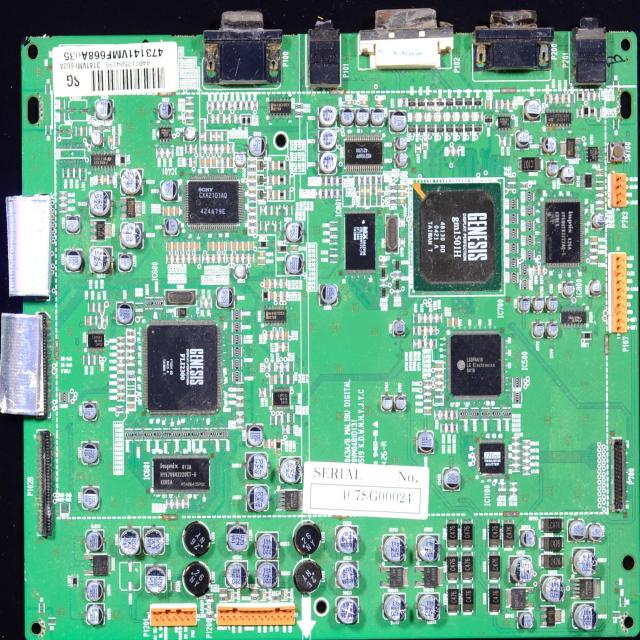Capacitor Jumper: (540, 553, 564, 569), (538, 518, 564, 532), (539, 536, 564, 550), (503, 520, 515, 548), (462, 552, 474, 580), (462, 584, 474, 612), (489, 584, 501, 612), (518, 158, 542, 171), (447, 519, 458, 547), (488, 520, 499, 548), (489, 552, 500, 579), (447, 553, 458, 580), (462, 519, 472, 547), (448, 585, 458, 613), (174, 308, 189, 317), (67, 108, 88, 112), (58, 129, 74, 134), (269, 291, 274, 302), (264, 279, 270, 288), (423, 140, 428, 150), (220, 588, 227, 595), (264, 439, 269, 448), (346, 100, 353, 106), (117, 359, 125, 364), (424, 409, 432, 414), (76, 128, 81, 136), (398, 185, 406, 190), (274, 190, 278, 200), (377, 196, 381, 206), (208, 242, 213, 250), (290, 246, 298, 251), (252, 588, 258, 594), (219, 115, 223, 124), (82, 127, 86, 136), (206, 132, 210, 141), (223, 132, 227, 141), (416, 144, 420, 153), (212, 158, 216, 167), (274, 161, 278, 170), (366, 186, 370, 195), (372, 186, 376, 195), (164, 207, 168, 216), (400, 218, 404, 227), (184, 242, 188, 251), (167, 242, 171, 251), (284, 331, 288, 340), (435, 363, 442, 368), (186, 105, 193, 110), (249, 229, 256, 234), (590, 237, 597, 242), (258, 252, 265, 257), (270, 376, 274, 384), (127, 404, 135, 408), (270, 440, 274, 448), (274, 176, 278, 184), (596, 183, 604, 187), (366, 197, 370, 205), (175, 207, 179, 215), (400, 238, 404, 246), (220, 242, 224, 250), (232, 242, 236, 250), (244, 242, 248, 250), (214, 242, 218, 250), (178, 242, 182, 250), (173, 243, 177, 251), (86, 317, 90, 325), (448, 318, 452, 326), (454, 318, 458, 326), (361, 100, 367, 105), (187, 119, 193, 124), (376, 101, 383, 105), (360, 188, 364, 195), (398, 192, 405, 196), (398, 199, 405, 203), (249, 242, 253, 249), (238, 242, 242, 249), (258, 259, 265, 263), (597, 108, 600, 117), (231, 114, 234, 123), (487, 100, 490, 108), (208, 115, 211, 123), (201, 120, 204, 128), (201, 158, 204, 166), (229, 158, 232, 166), (207, 158, 210, 166), (104, 176, 107, 184), (361, 197, 364, 205), (190, 242, 193, 250), (227, 242, 230, 250), (110, 137, 113, 144), (170, 207, 173, 214), (196, 243, 199, 250), (70, 169, 72, 178), (378, 187, 380, 193)
Connector: (203, 2, 284, 86), (357, 7, 455, 66), (479, 8, 547, 72), (571, 14, 606, 88), (308, 14, 342, 87), (217, 603, 294, 625), (608, 253, 627, 334), (150, 604, 197, 626), (608, 171, 627, 208)
IC: (408, 178, 506, 296), (143, 319, 222, 416), (448, 329, 504, 400), (183, 174, 245, 232), (542, 198, 584, 268), (344, 210, 376, 273), (342, 131, 386, 172), (476, 440, 509, 477), (570, 576, 601, 600), (380, 566, 409, 588), (415, 566, 443, 588), (506, 586, 534, 608), (546, 108, 572, 130), (90, 150, 116, 172), (561, 306, 586, 328), (269, 97, 292, 118), (559, 138, 581, 159), (91, 220, 112, 242), (264, 305, 286, 326), (541, 606, 562, 627), (120, 198, 142, 218), (87, 330, 105, 350), (273, 388, 290, 409), (583, 147, 602, 163), (159, 124, 172, 144), (499, 112, 510, 134), (581, 173, 594, 189)
Resistor Jumper: (275, 279, 281, 288), (126, 380, 136, 385), (127, 389, 135, 395), (512, 438, 520, 444), (251, 595, 259, 601), (272, 596, 280, 602), (613, 612, 621, 618), (206, 613, 214, 619), (248, 166, 256, 172), (330, 230, 338, 236), (276, 416, 281, 425), (452, 424, 457, 433), (430, 112, 435, 121), (268, 162, 273, 171), (63, 169, 68, 178), (326, 177, 331, 186), (206, 594, 213, 600), (249, 222, 256, 228), (84, 355, 88, 365), (289, 362, 293, 372), (283, 362, 287, 372), (265, 362, 269, 372), (126, 366, 134, 371), (127, 373, 135, 378), (424, 388, 432, 393), (424, 395, 432, 400), (127, 397, 135, 402), (424, 402, 432, 407), (236, 414, 244, 419), (290, 413, 294, 423), (236, 422, 244, 427), (290, 425, 294, 435), (512, 445, 520, 450), (512, 459, 520, 464), (439, 113, 444, 121), (225, 114, 229, 124), (186, 144, 190, 154), (206, 144, 210, 154), (157, 148, 161, 158), (508, 177, 516, 182), (248, 182, 256, 187), (520, 183, 528, 188), (248, 196, 256, 201), (330, 223, 338, 228), (330, 238, 338, 243), (590, 244, 598, 249), (590, 251, 598, 256), (208, 253, 212, 263), (167, 254, 171, 264), (238, 254, 242, 264), (220, 254, 224, 264), (178, 254, 182, 264), (282, 280, 287, 288), (276, 292, 281, 300), (94, 303, 98, 313), (100, 304, 105, 312), (126, 331, 134, 336), (426, 338, 430, 348), (126, 345, 134, 350), (96, 356, 100, 365), (276, 375, 280, 384), (289, 375, 293, 384), (260, 388, 264, 397), (266, 388, 270, 397), (442, 410, 446, 419), (283, 413, 287, 422), (272, 416, 276, 425), (595, 92, 599, 101), (584, 92, 588, 101), (564, 94, 568, 103), (558, 94, 562, 103), (546, 95, 550, 104), (402, 98, 406, 107), (498, 100, 502, 109), (503, 100, 507, 109), (509, 100, 513, 109), (230, 101, 234, 110), (236, 101, 240, 110), (225, 101, 229, 110), (421, 112, 425, 121), (614, 120, 618, 129), (500, 137, 504, 146), (506, 137, 510, 146), (228, 144, 232, 153), (223, 144, 227, 153), (212, 144, 216, 153), (200, 145, 204, 154), (448, 147, 452, 156), (168, 149, 172, 158), (109, 175, 113, 184), (377, 177, 381, 186), (338, 177, 342, 186), (322, 177, 326, 186), (333, 177, 337, 186), (322, 189, 326, 198), (286, 191, 290, 200), (267, 206, 271, 215), (288, 206, 292, 215), (261, 206, 265, 215), (261, 221, 265, 230), (184, 255, 188, 264), (534, 266, 538, 275), (438, 314, 442, 323), (420, 314, 424, 323), (102, 316, 106, 325), (97, 316, 101, 325), (426, 326, 430, 335), (414, 326, 418, 335), (278, 331, 282, 340), (267, 331, 271, 340), (414, 339, 418, 348), (432, 339, 436, 348), (236, 383, 243, 388), (236, 391, 243, 396), (523, 441, 530, 446), (523, 448, 530, 453), (512, 452, 519, 457), (523, 455, 530, 460), (513, 466, 520, 471), (523, 469, 530, 474), (499, 484, 506, 489), (510, 490, 517, 495), (220, 596, 227, 601), (186, 98, 193, 103), (295, 111, 302, 116), (187, 112, 194, 117), (596, 170, 603, 175), (596, 189, 603, 194), (596, 196, 603, 201), (60, 199, 67, 204), (596, 203, 603, 208), (249, 215, 256, 220), (330, 257, 337, 262), (394, 272, 401, 277), (380, 280, 387, 285), (136, 304, 143, 309), (117, 338, 124, 343), (90, 356, 94, 364), (126, 359, 134, 363), (270, 363, 274, 371), (117, 374, 125, 378), (283, 376, 287, 384), (236, 399, 244, 403), (236, 407, 244, 411), (447, 411, 451, 419), (435, 411, 439, 419), (447, 424, 451, 432), (284, 426, 288, 434), (621, 598, 625, 606), (590, 92, 594, 100), (552, 95, 556, 103), (570, 95, 574, 103), (492, 100, 496, 108), (242, 101, 246, 109), (253, 102, 257, 110), (478, 112, 482, 120), (459, 113, 463, 121), (115, 136, 119, 144), (218, 145, 222, 153), (192, 158, 196, 166), (248, 160, 256, 164), (286, 162, 290, 170), (75, 169, 79, 177), (248, 175, 256, 179), (508, 184, 516, 188), (248, 190, 256, 194), (338, 189, 342, 197), (328, 190, 332, 198), (333, 190, 337, 198), (389, 192, 397, 196), (59, 193, 67, 197), (269, 191, 273, 199), (330, 250, 338, 254), (196, 255, 200, 263), (203, 255, 207, 263), (270, 280, 274, 288), (394, 292, 402, 296), (282, 292, 286, 300), (207, 299, 211, 307), (89, 303, 93, 311), (432, 314, 436, 322), (414, 314, 418, 322), (272, 331, 276, 339), (284, 343, 288, 351), (117, 346, 125, 350), (118, 352, 124, 357), (277, 362, 280, 372), (118, 366, 124, 371), (118, 388, 124, 393), (436, 391, 442, 396), (118, 395, 124, 400), (436, 398, 442, 403), (524, 462, 530, 467), (296, 104, 302, 109), (273, 206, 276, 216), (250, 253, 253, 263), (591, 258, 597, 263), (279, 342, 282, 352), (127, 352, 134, 356), (435, 370, 442, 374), (424, 382, 431, 386), (510, 484, 517, 488), (499, 491, 506, 495), (389, 186, 396, 190), (249, 208, 256, 212), (380, 261, 387, 265), (136, 312, 143, 316), (127, 338, 134, 342), (453, 410, 456, 419), (237, 114, 240, 123), (212, 132, 215, 141), (218, 132, 221, 141), (192, 144, 195, 153), (186, 158, 189, 167), (286, 176, 289, 185), (366, 176, 369, 185), (361, 176, 364, 185), (355, 177, 358, 186), (316, 189, 319, 198), (277, 221, 280, 230), (215, 254, 218, 263), (233, 254, 236, 263), (540, 266, 543, 275), (92, 316, 95, 325), (432, 326, 435, 335), (421, 326, 424, 335), (421, 339, 424, 348), (436, 378, 442, 382), (118, 381, 124, 385), (436, 384, 442, 388), (117, 407, 123, 411), (442, 424, 445, 432), (214, 101, 217, 109), (248, 101, 251, 109), (208, 102, 211, 110), (469, 112, 472, 120), (450, 112, 453, 120), (412, 113, 415, 121), (214, 115, 217, 123), (104, 126, 110, 130), (94, 126, 100, 130), (201, 132, 204, 140), (455, 147, 458, 155), (163, 149, 166, 157), (98, 176, 101, 184), (372, 176, 375, 184), (269, 176, 272, 184), (227, 255, 230, 263), (190, 255, 193, 263), (244, 255, 247, 263), (202, 299, 205, 307), (426, 314, 429, 322), (390, 200, 397, 203), (60, 207, 67, 210), (174, 254, 176, 263), (220, 102, 222, 110)
Transistor: (256, 160, 267, 172), (257, 174, 266, 187), (426, 125, 436, 136), (277, 205, 287, 216), (408, 98, 417, 110), (257, 189, 266, 201), (266, 220, 275, 232), (464, 98, 473, 109), (436, 125, 445, 136), (455, 98, 463, 110), (474, 98, 482, 110), (436, 98, 444, 110), (446, 98, 454, 110), (473, 125, 482, 135), (463, 126, 472, 136), (393, 280, 402, 290), (418, 99, 426, 110), (427, 99, 435, 110), (485, 115, 493, 126), (455, 125, 463, 136), (408, 125, 416, 136), (418, 125, 426, 136), (446, 126, 454, 136), (393, 260, 401, 270), (380, 268, 388, 277), (380, 288, 388, 296)
